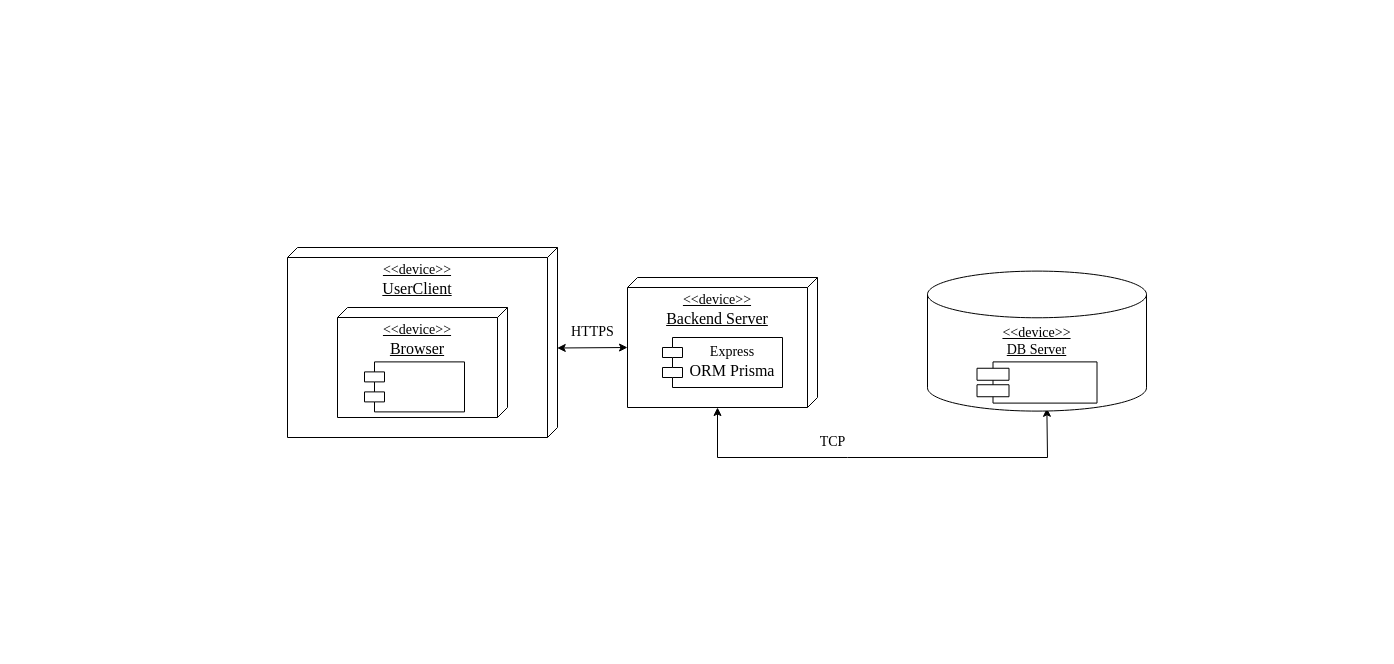
The diagram is 1394 pixels wide and 664 high, and some of its shapes have lost their labels. Each missing label, with the centre of its shape:
PostgreSQL: [1036,382]
React frontend: [414,386]
